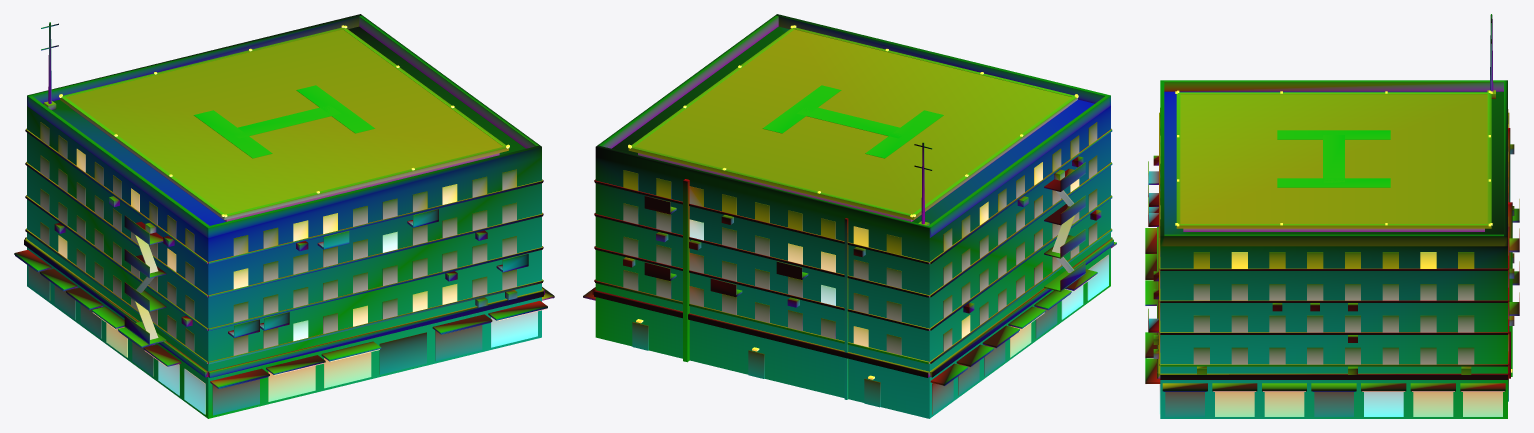
The model's file is Block_Corner_V2.fbx.
The picture shows the model from 3 angles, left to right: view 1: azimuth 30°, elevation 25°; view 2: azimuth 150°, elevation 25°; view 3: azimuth 270°, elevation 25°; orthographic projection. The views are drawn at different scales.
Parts seen in each view (by area): view 1: Block_Corner_V2_LOD0; view 2: Block_Corner_V2_LOD0; view 3: Block_Corner_V2_LOD0.
Boxes of the visible parts, bbox=[...] form: Block_Corner_V2_LOD0: bbox=[14, 14, 554, 418]; Block_Corner_V2_LOD0: bbox=[583, 14, 1116, 418]; Block_Corner_V2_LOD0: bbox=[1145, 14, 1519, 418].
Size of what is drawn, in the model's own units: 37.1 by 25.91 by 34.5.
